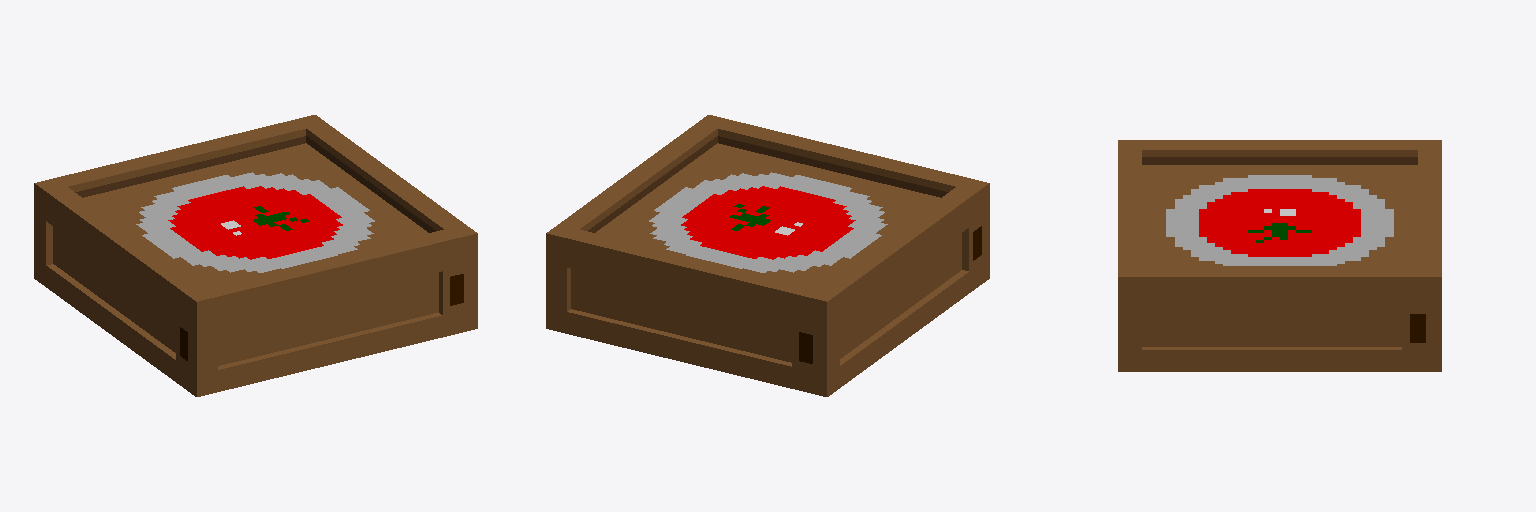
3 renders of one model, left to right at view 1: azimuth 30°, elevation 25°; view 2: azimuth 150°, elevation 25°; view 3: azimuth 270°, elevation 25°, orthographic.
Parts seen in each view (by area): view 1: object 1; view 2: object 1; view 3: object 1.
Part boxes in pixels (left/top/right/bottom): object 1: left=34, top=115, right=477, bottom=396; object 1: left=546, top=115, right=989, bottom=396; object 1: left=1118, top=140, right=1441, bottom=371.
Size of the model in its own units: 4 by 1.3 by 4.
1 materials, 1 textured.